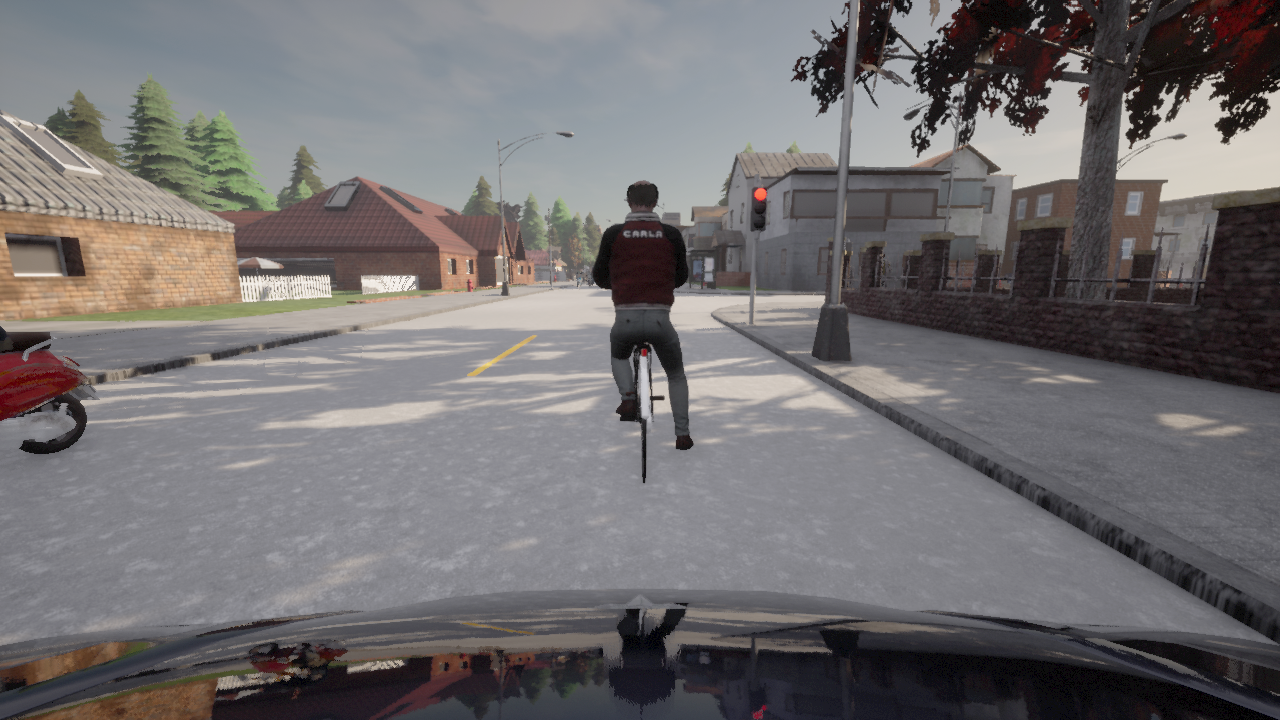cyclist: (0, 588, 1279, 719), (0, 331, 100, 455), (619, 342, 664, 482), (573, 273, 584, 290), (585, 273, 591, 287)
pedestrian: (880, 252, 891, 287)
